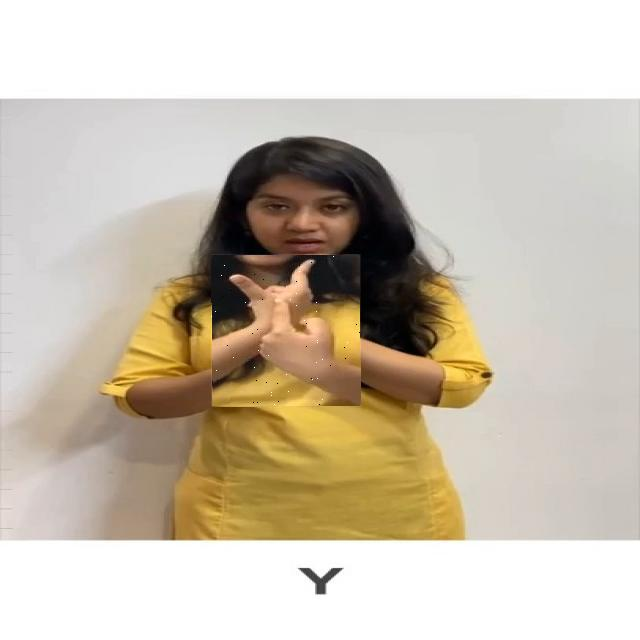Y: (211, 254, 361, 406)
